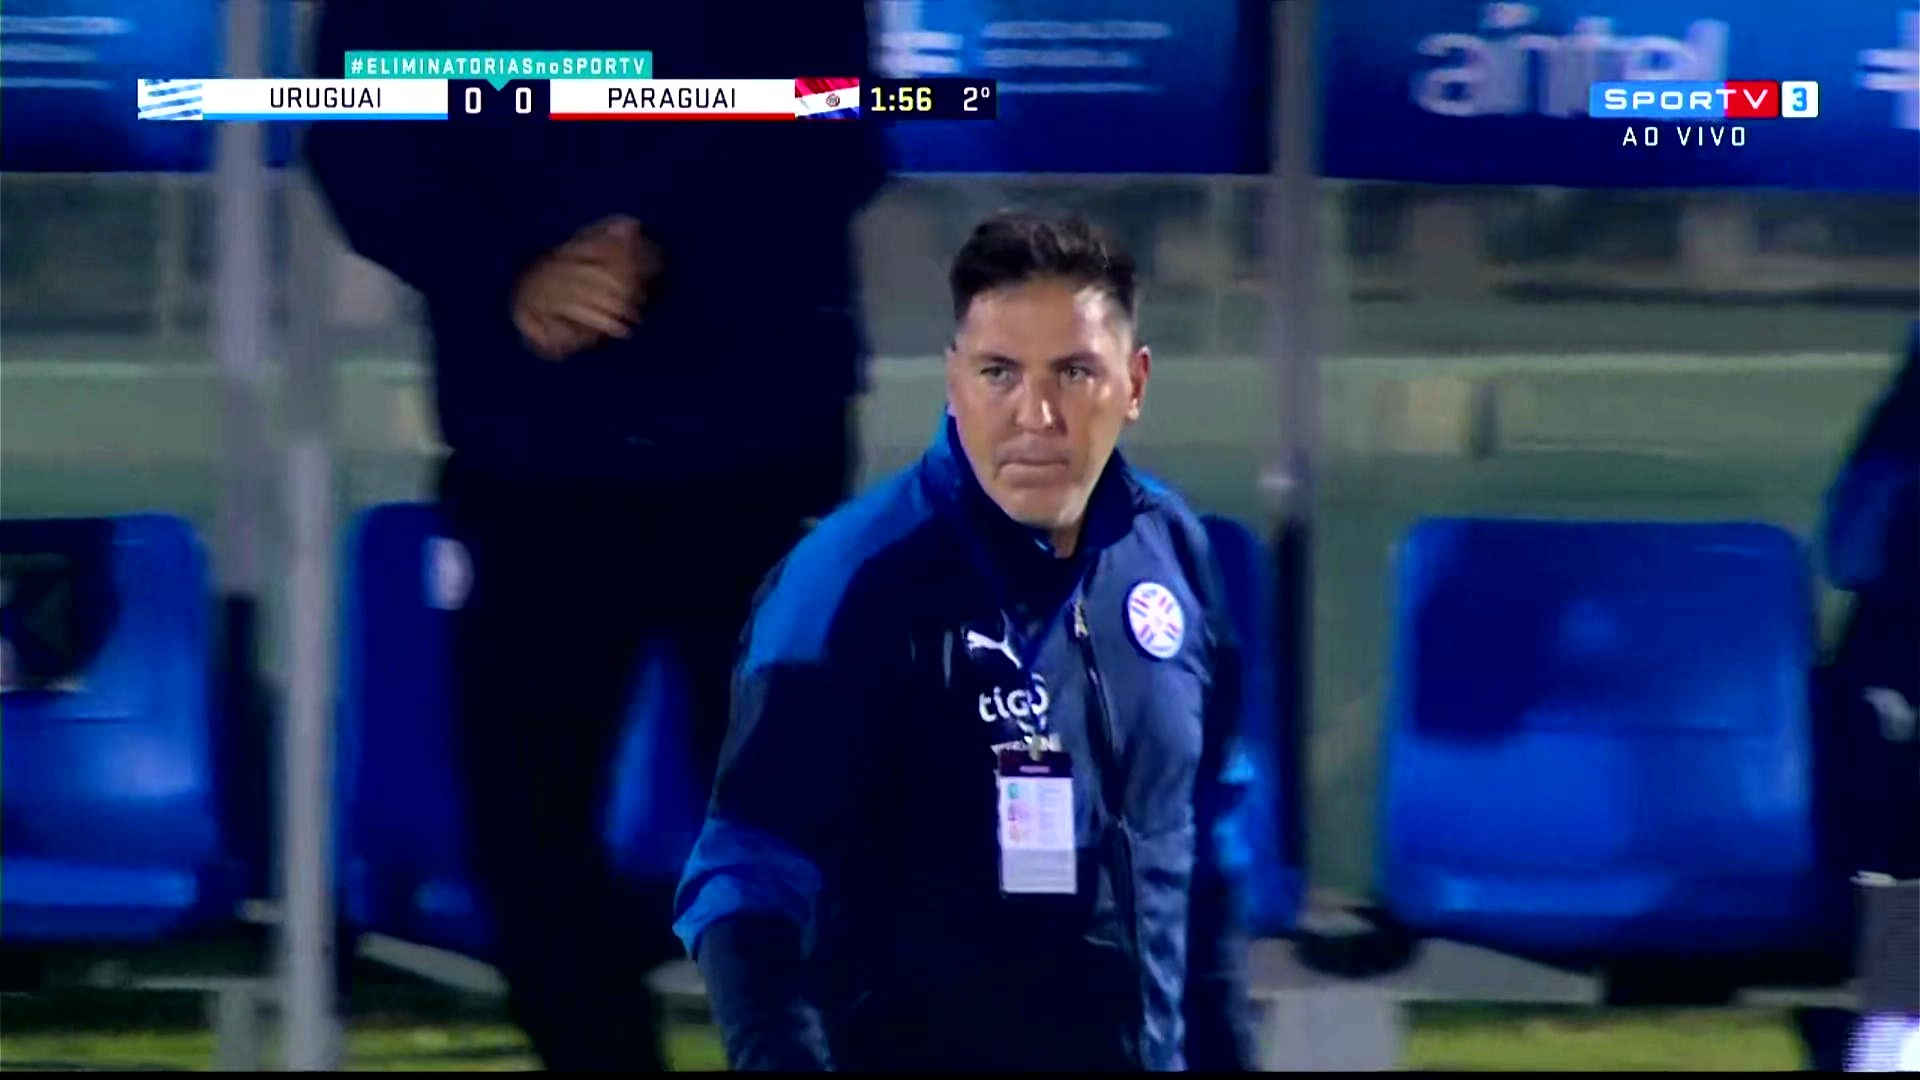SporTV3: (1588, 83, 1817, 117)
